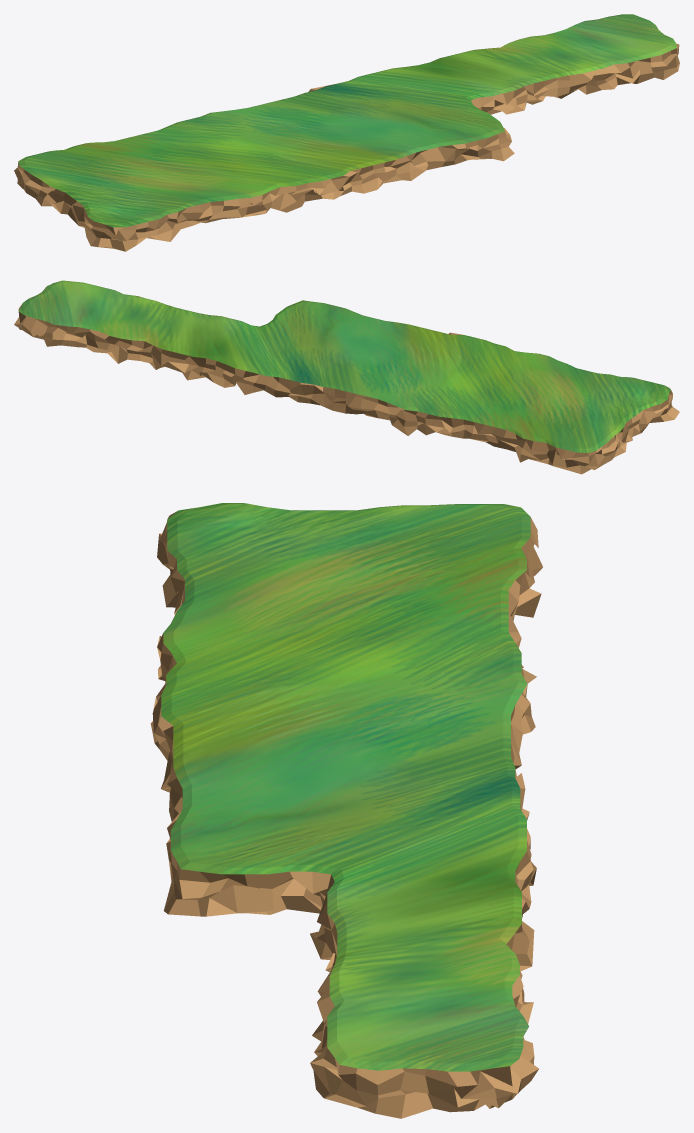
Rendered from Tebing atas 1.fbx.
3 views of the same model, one above another, from view 1: azimuth 30°, elevation 25°; view 2: azimuth 150°, elevation 25°; view 3: azimuth 270°, elevation 25° (orthographic). The views are drawn at different scales.
Parts seen in each view (by area): view 1: Tebing atas; view 2: Tebing atas; view 3: Tebing atas.
Part boxes in pixels (x1=…): Tebing atas: x1=14, y1=14, x2=679, y2=251; Tebing atas: x1=14, y1=280, x2=679, y2=474; Tebing atas: x1=150, y1=503, x2=542, y2=1118.
Size of the model in its own units: 7720 by 337 by 2210.
